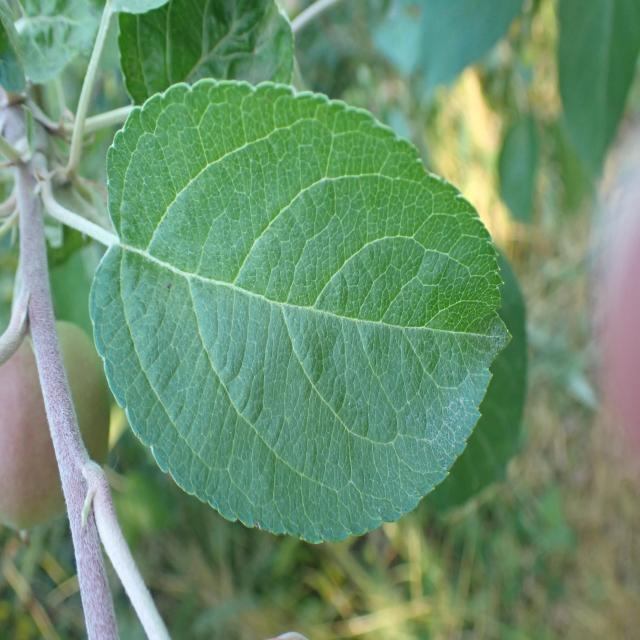healthy: (90, 77, 513, 545), (117, 0, 295, 105)
